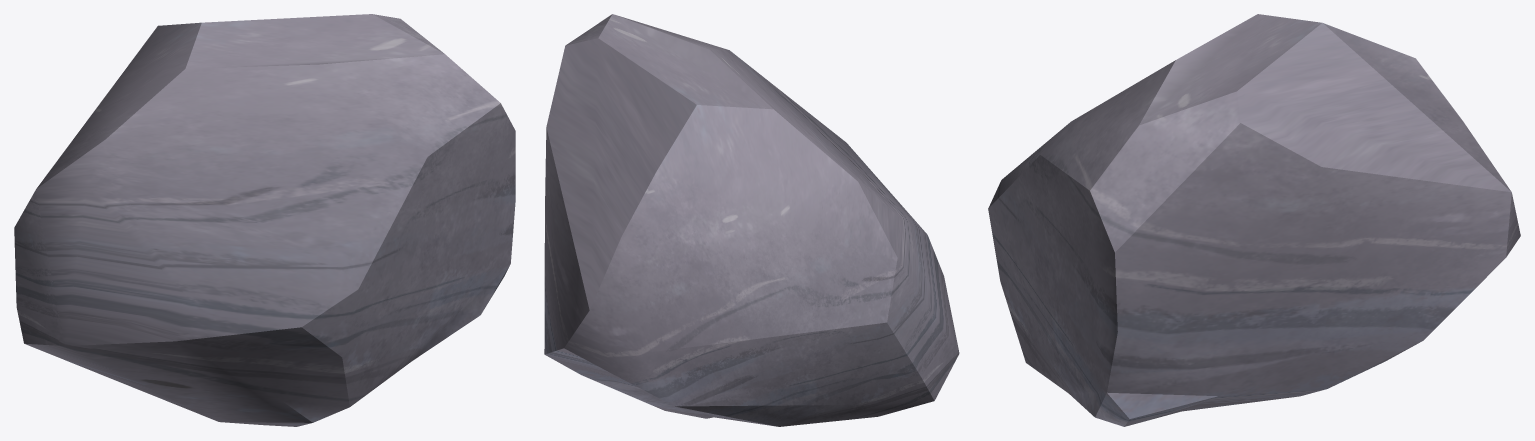
Rendered from rock_1.fbx.
3 renders of one model, left to right at view 1: azimuth 30°, elevation 25°; view 2: azimuth 150°, elevation 25°; view 3: azimuth 270°, elevation 25°, orthographic. The views are drawn at different scales.
Visible parts, largest first — view 1: rock 1; view 2: rock 1; view 3: rock 1.
Part boxes in pixels (bbox=[...]): rock 1: bbox=[14, 14, 515, 426]; rock 1: bbox=[544, 14, 959, 426]; rock 1: bbox=[988, 14, 1520, 426].
Size of the model in its own units: 1234 by 950 by 1182.
